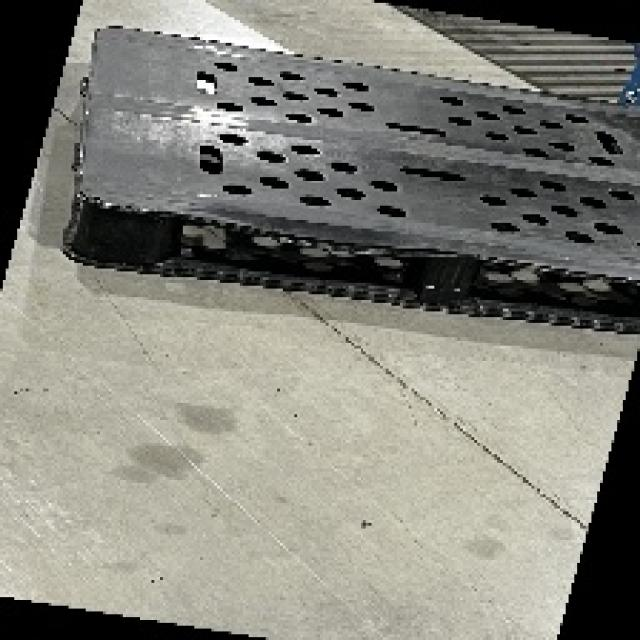igps: (56, 22, 640, 342)
